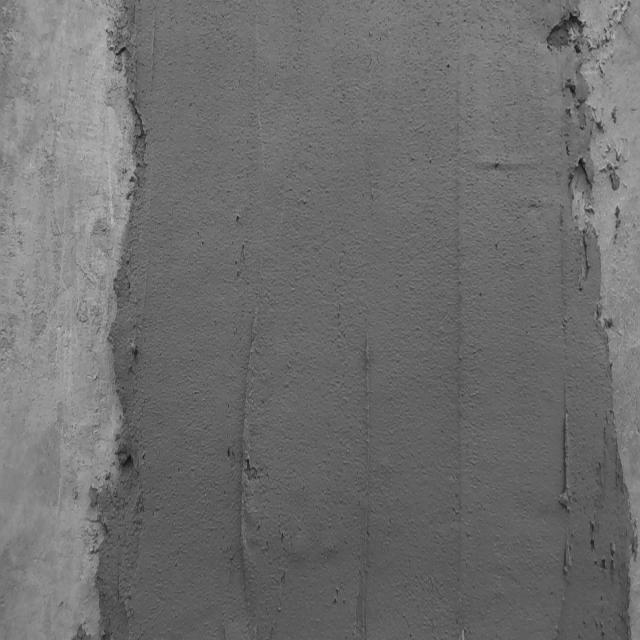trowels marks: (230, 254, 272, 636), (447, 48, 471, 640), (552, 188, 577, 604), (353, 310, 382, 640)
